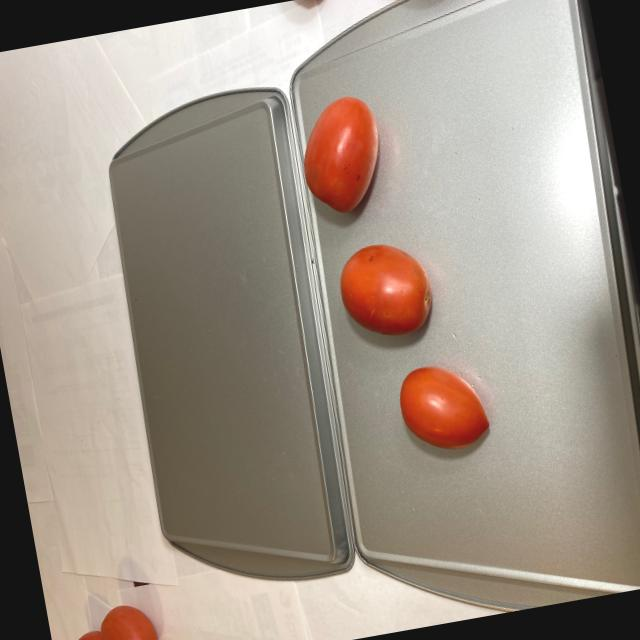tomato: (291, 79, 504, 474), (56, 598, 171, 640)
